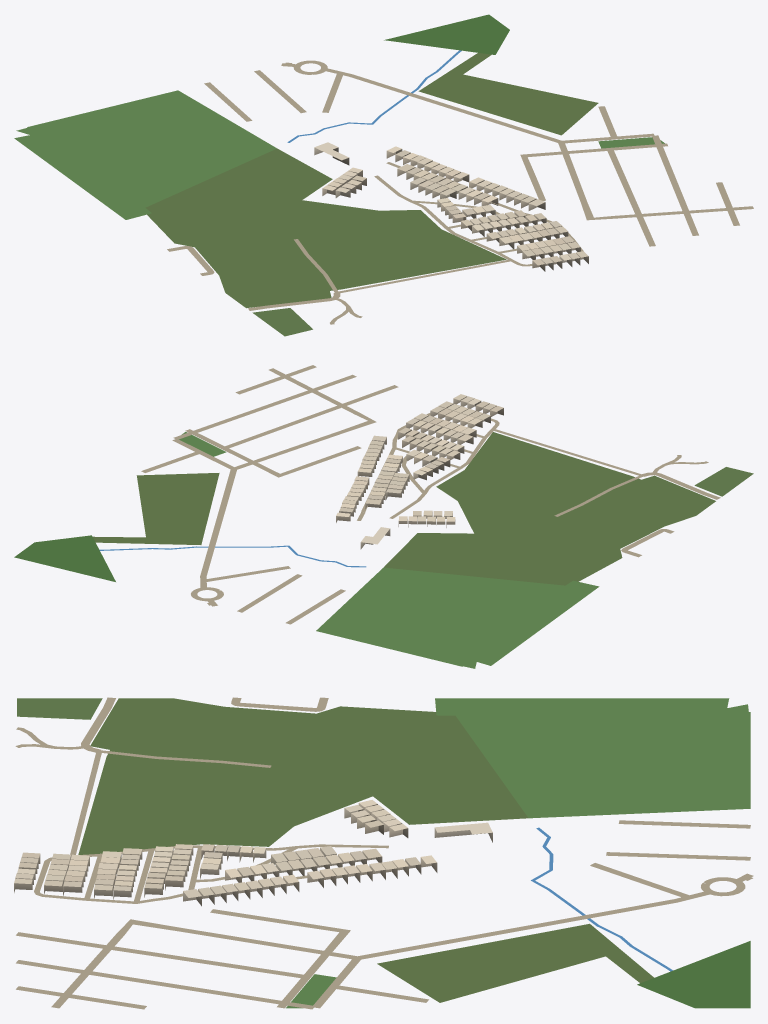
3 views of the same model, one above another, from view 1: azimuth 30°, elevation 25°; view 2: azimuth 150°, elevation 25°; view 3: azimuth 270°, elevation 25° (orthographic). The views are drawn at different scales.
Parts seen in each view (by area): view 1: ground, building; view 2: ground, building, water; view 3: ground, building, water.
Boxes of the visible parts, x1,y1,x2,y2 form: ground: (14, 14, 753, 336); building: (314, 142, 588, 271); ground: (14, 365, 753, 668); building: (336, 394, 503, 549); water: (99, 545, 366, 567); ground: (15, 697, 753, 1009); building: (14, 800, 492, 906); water: (531, 827, 672, 971).
Size of the model in its own units: 503 by 8 by 504.
